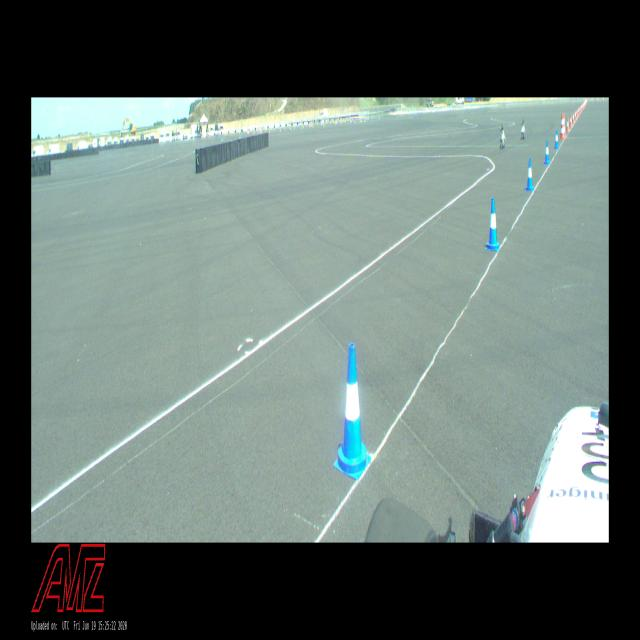blue_cone: (334, 343, 371, 479), (485, 198, 500, 250), (526, 158, 534, 191), (544, 140, 550, 164), (554, 129, 559, 149), (564, 124, 566, 138)
large_orange_cone: (560, 114, 564, 139), (563, 113, 566, 137)
orange_cone: (566, 118, 570, 132), (570, 115, 572, 126), (572, 113, 574, 123), (574, 111, 576, 119)
